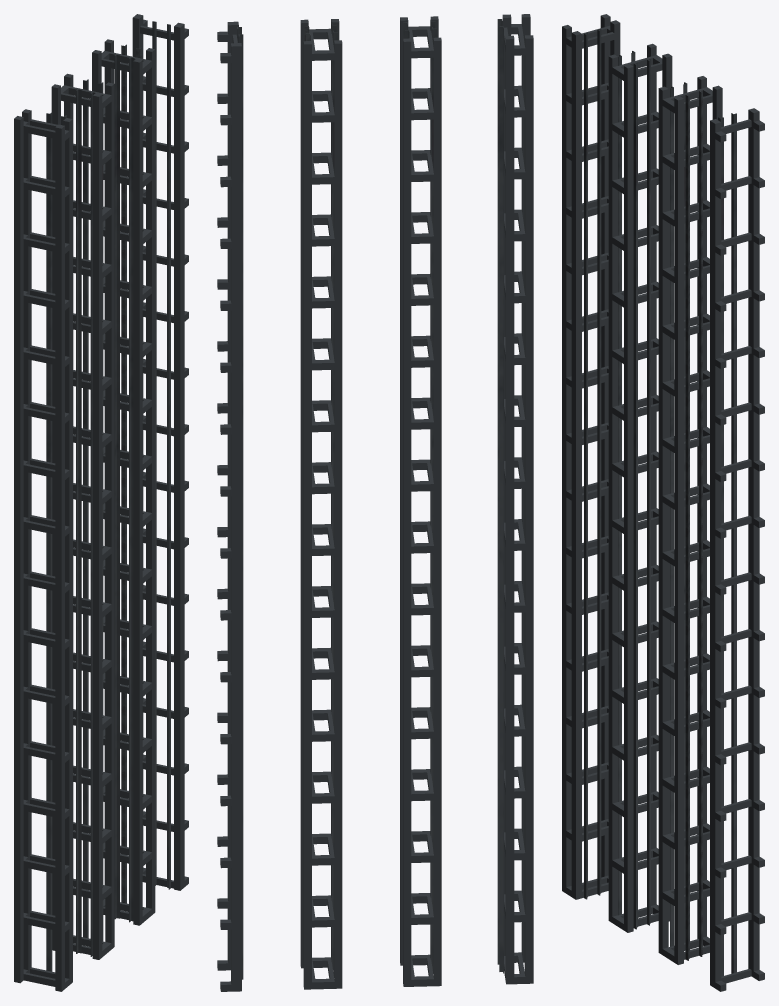
File: elevator-shafts-withtexture.fbx
The picture shows the model from 3 angles, left to right: view 1: azimuth 30°, elevation 25°; view 2: azimuth 150°, elevation 25°; view 3: azimuth 270°, elevation 25°; orthographic projection. The views are drawn at different scales.
Visible parts, largest first — view 1: 2.004; view 2: 2.004; view 3: 2.004.
Part boxes in pixels (x1,y1,x2,y2): 2.004: [14, 14, 188, 991]; 2.004: [217, 14, 533, 991]; 2.004: [562, 14, 764, 991].
Size of the model in its own units: 744 by 2646 by 563.
1 material, 1 textured.
